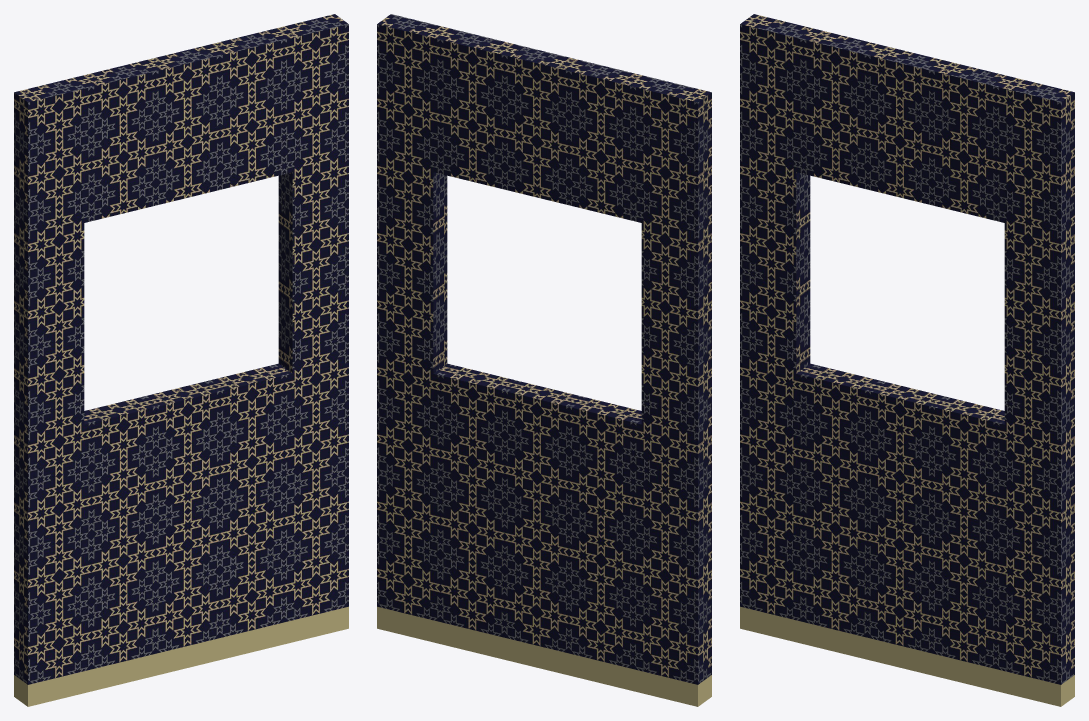
Rendered from ARC0210035.fbx.
The picture shows the model from 3 angles, left to right: view 1: azimuth 30°, elevation 25°; view 2: azimuth 150°, elevation 25°; view 3: azimuth 330°, elevation 25°; orthographic projection.
Parts seen in each view (by area): view 1: smARC0210035; view 2: smARC0210035; view 3: smARC0210035.
Part boxes in pixels (x1,y1,x2,y2): smARC0210035: (14, 14, 348, 706); smARC0210035: (377, 14, 711, 706); smARC0210035: (740, 14, 1074, 706).
Bounding box in the file's own units: 182 × 328 × 13.67.
Materials: 1 (1 with a texture image).
